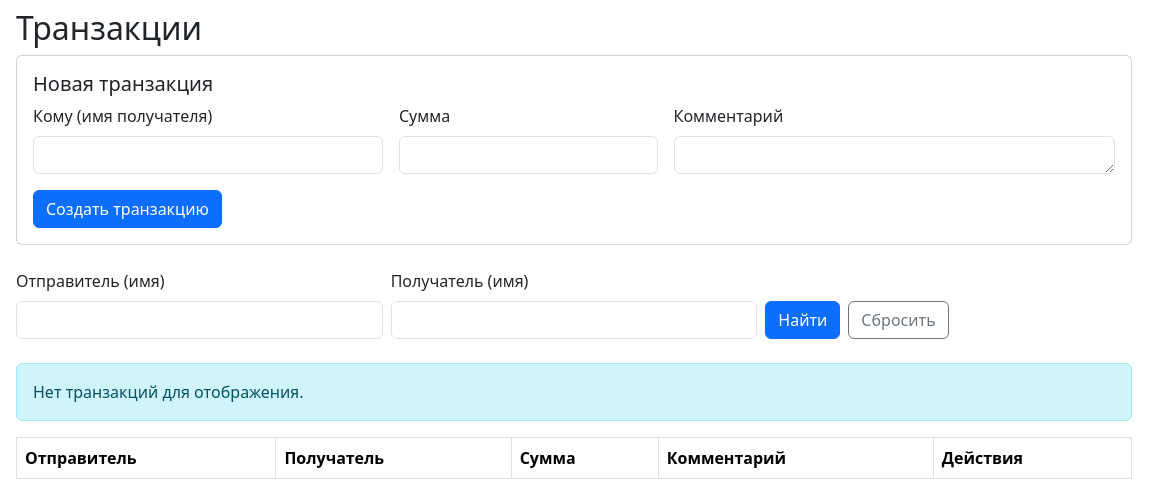
Test: Transactions page › creates transaction from transactions page
The width and height of the screenshot is (1149, 496).
Type "UserB" into the field labelled "Кому (имя получателя)" at point(208, 155), box [33,136,383,174]
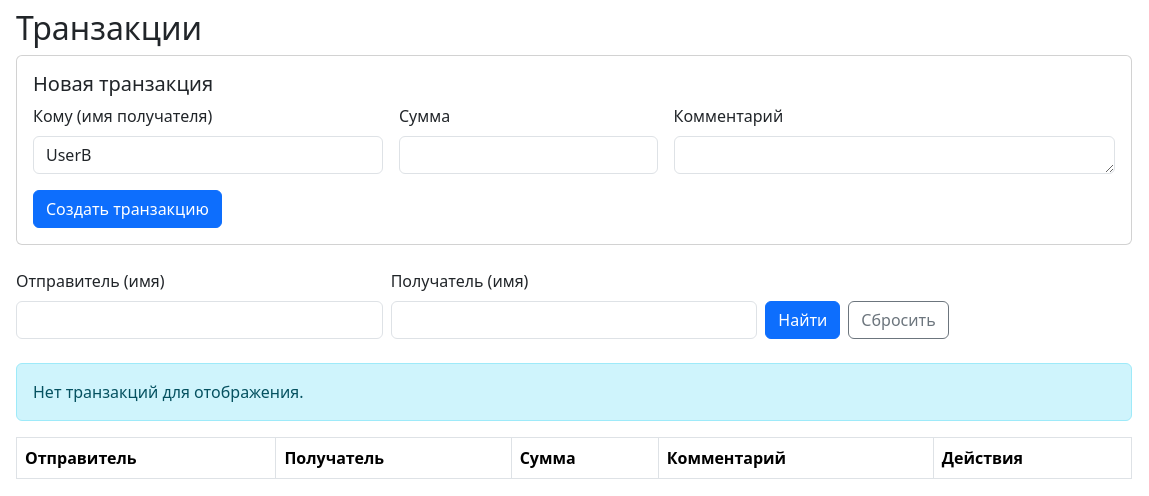
Type "150" into the number field labelled "Сумма" at point(528, 155), box [399,136,658,174]
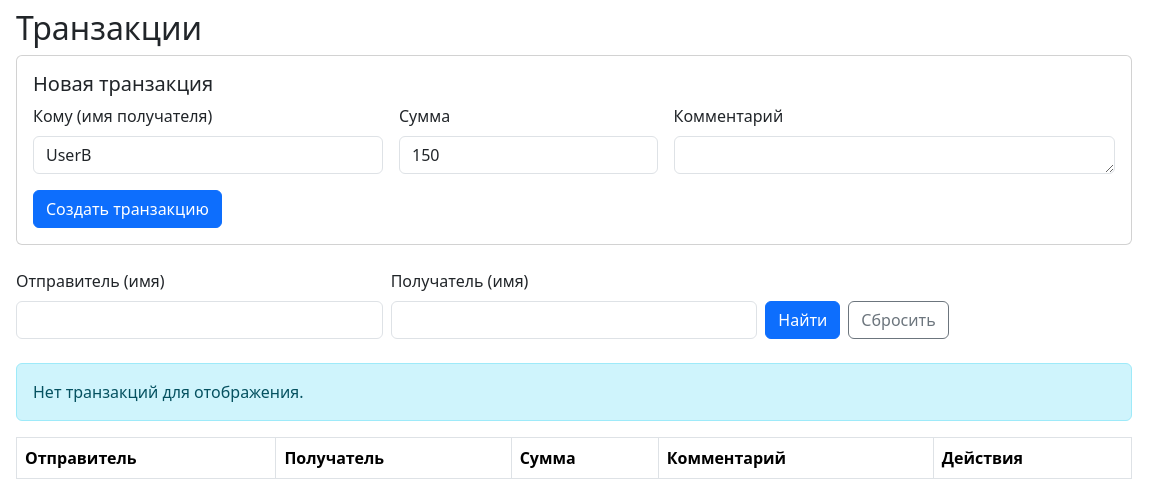
Type "For dinner" into the text box labelled "Комментарий" at point(894, 155), box [674,136,1115,174]
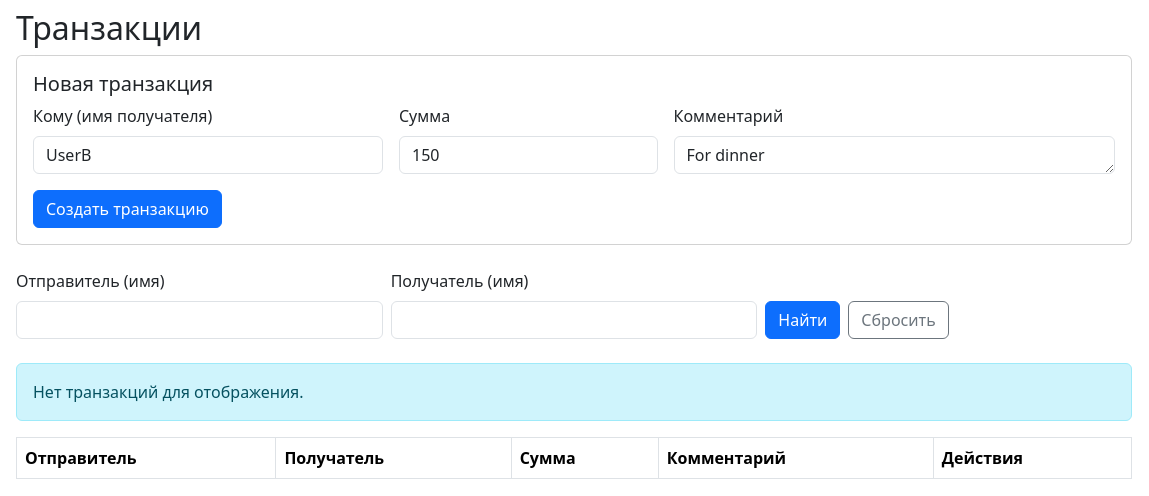
Click the button "Создать транзакцию" at point(127, 209), box [33,190,222,228]
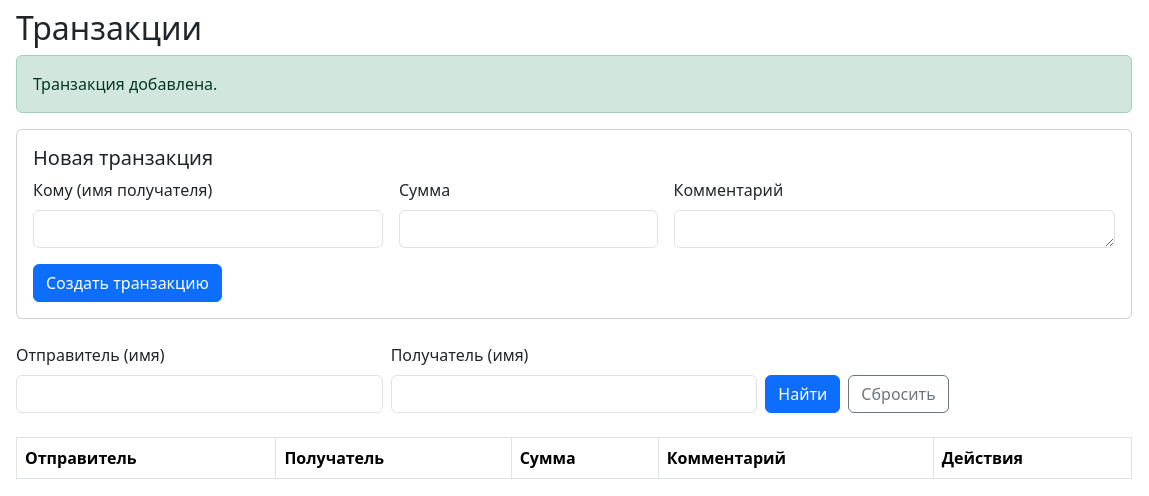
Now the text "Транзакция добавлена." is shown, box [16,55,1132,113]
